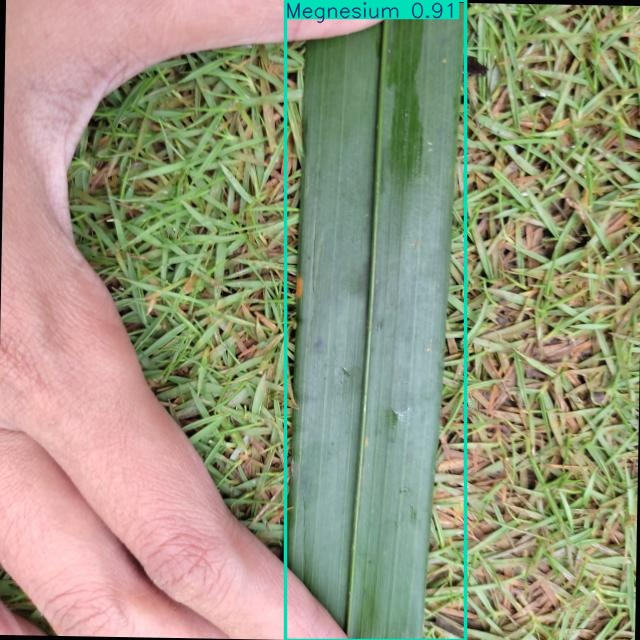Megnesium: (285, 0, 465, 640)
